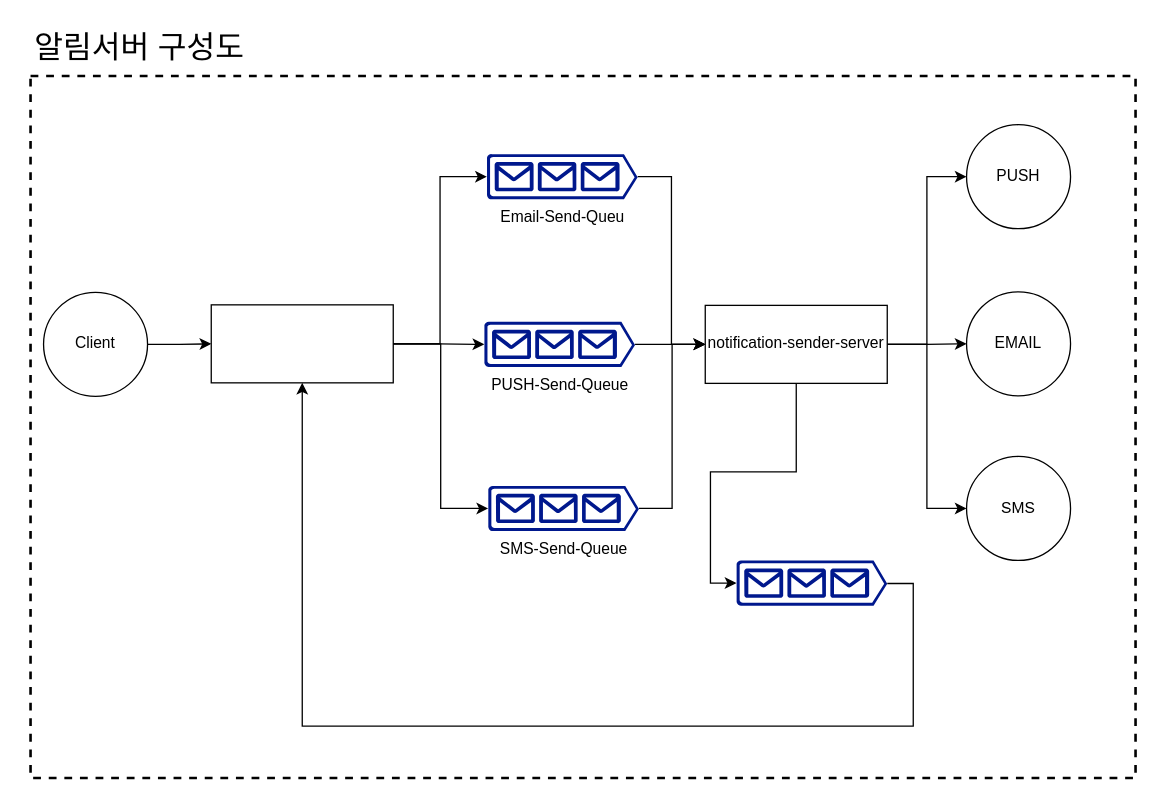
This 1158x801 diagram has some shape labels left out. The box of each missing label's shape, as (x1, y1, x2, y2) in pixels:
notification-fornt-server: (210, 304, 393, 383)
Send-Result-Queue: (736, 560, 887, 605)
